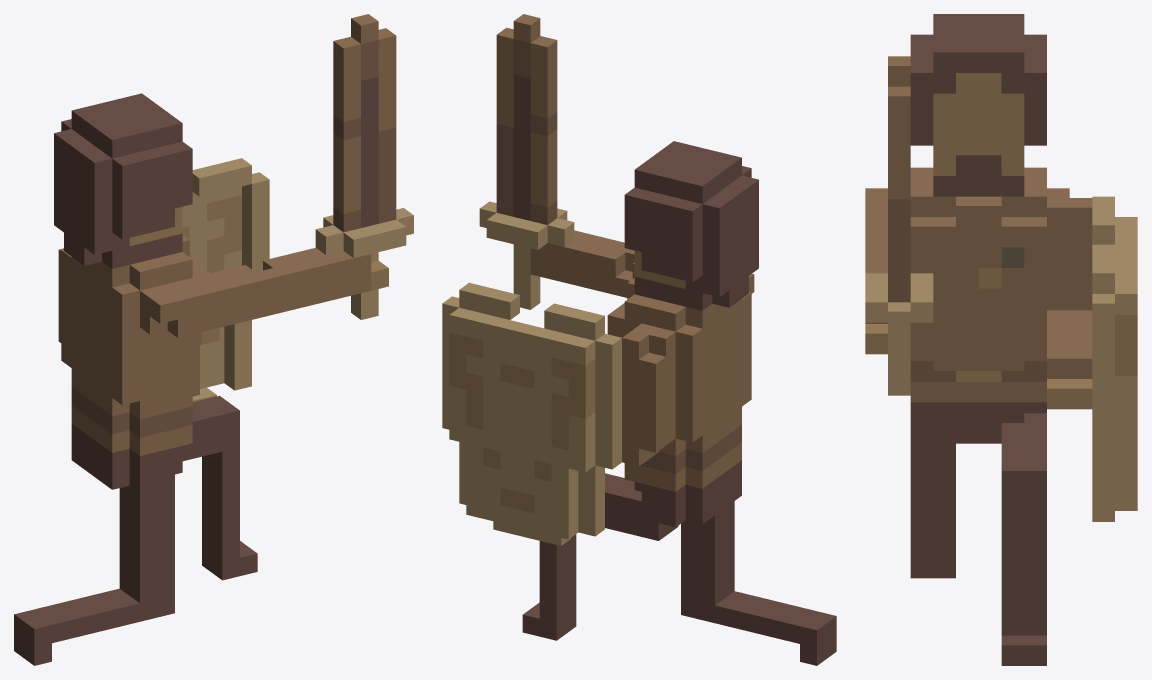
File: Statue_01.obj
3 views of the same model, side by side, from view 1: azimuth 30°, elevation 25°; view 2: azimuth 150°, elevation 25°; view 3: azimuth 270°, elevation 25° (orthographic). The views are drawn at different scales.
Visible parts, largest first — view 1: Statue_01.001; view 2: Statue_01.001; view 3: Statue_01.001.
Part boxes in pixels (x1,y1,x2,y2): Statue_01.001: [14, 14, 413, 665]; Statue_01.001: [442, 14, 836, 665]; Statue_01.001: [865, 14, 1137, 665].
Size of the model in its own units: 2.1 by 3.1 by 1.2.
